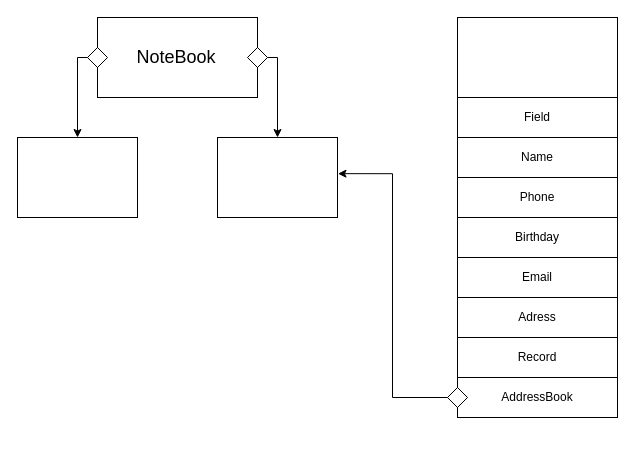
Some shapes in this 635 by 455 pixel diagram are drawn without their labels. The box of each missing label's shape, as (x1, y1, x2, y2) in pixels:
AdressBook: (456, 16, 618, 98)
Manager: (216, 136, 338, 218)
Note: (16, 136, 138, 218)
